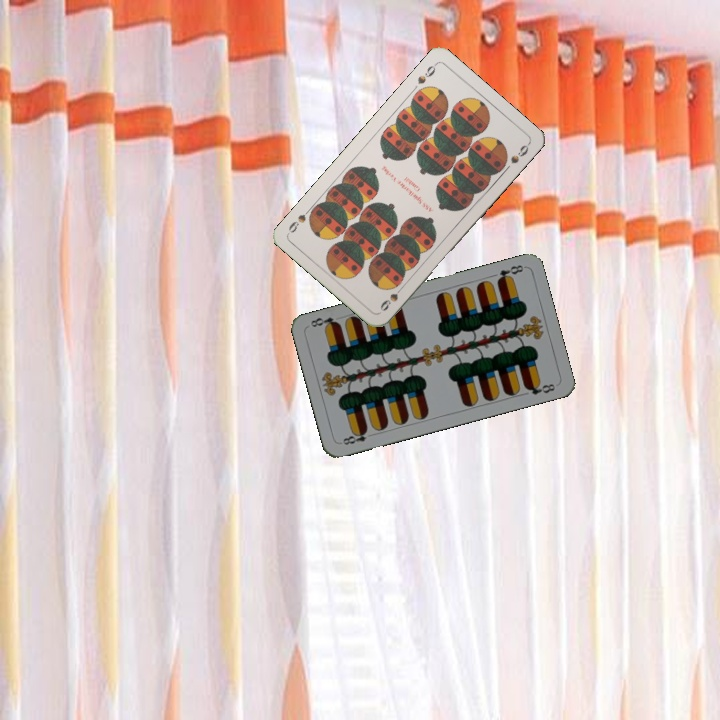E8: (337, 425, 377, 447), (493, 261, 526, 285)
S9: (376, 281, 407, 314), (413, 59, 439, 87)
